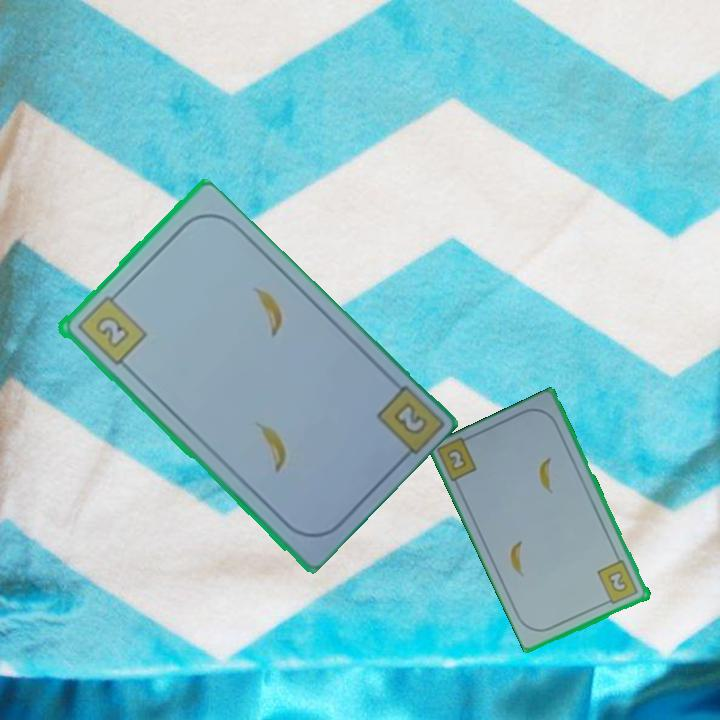2b: (72, 287, 149, 368), (435, 432, 480, 486), (594, 557, 641, 607), (389, 398, 430, 438)
